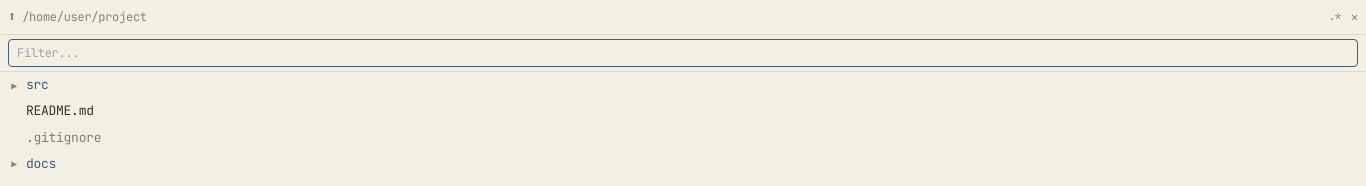
it: FileBrowser › filters entries by name
Expected: the text "src" is shown, [26,75,49,95]
Type "README" into the field with placeholder "Filter...".
click(683, 53); type("README")  # box [8,39,1358,67]
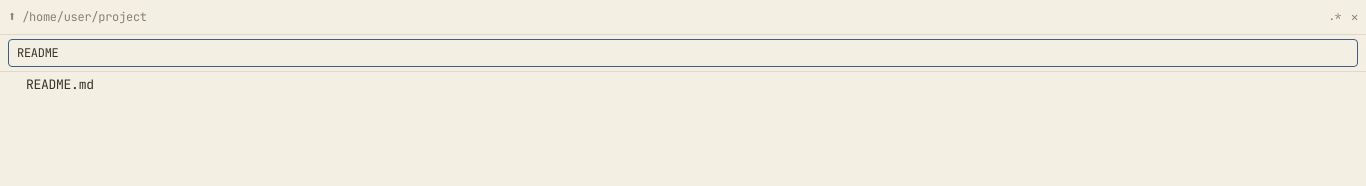
Expected: the text "README.md" is shown, [26,75,94,95]
Result: the text "src" is gone
Result: the text "docs" is gone
